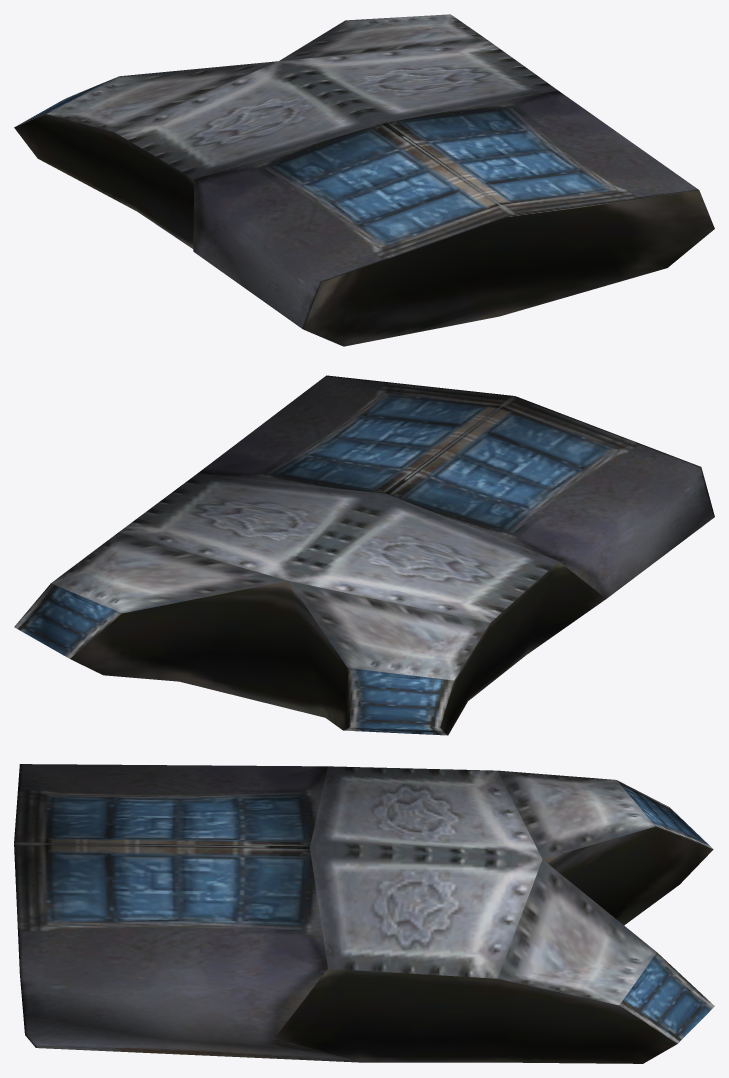
Rendered from TorsoArmour4__LED.glb.
The picture shows the model from 3 angles, top to bottom: view 1: azimuth 30°, elevation 25°; view 2: azimuth 150°, elevation 25°; view 3: azimuth 270°, elevation 25°; orthographic projection. The views are drawn at different scales.
Visible parts, largest first — view 1: TorsoArmour4; view 2: TorsoArmour4; view 3: TorsoArmour4.
Part boxes in pixels (x1,y1,x2,y2): TorsoArmour4: (14, 14, 714, 346); TorsoArmour4: (14, 375, 714, 735); TorsoArmour4: (14, 764, 714, 1063).
Bounding box in the file's own units: 20.19 × 5.52 × 25.26.
1 material, 1 textured.
